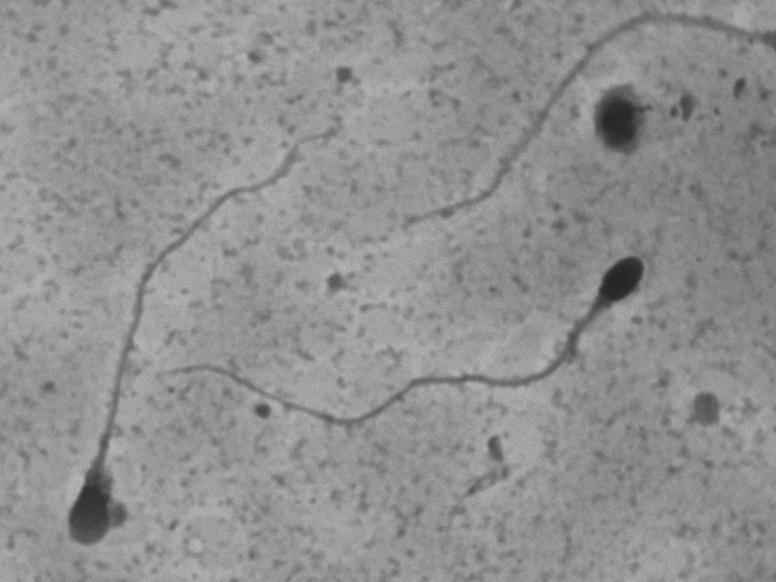Abnormal: (48, 98, 376, 556)
Normal: (158, 215, 668, 450)
